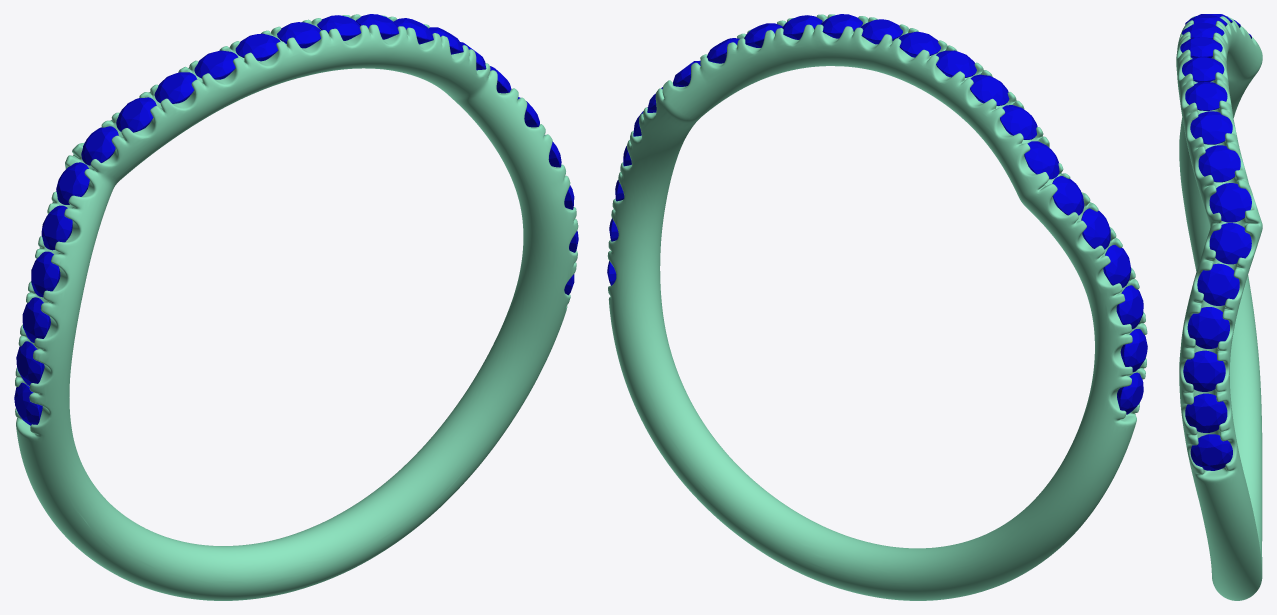
The picture shows the model from 3 angles, left to right: view 1: azimuth 30°, elevation 25°; view 2: azimuth 150°, elevation 25°; view 3: azimuth 270°, elevation 25°; orthographic projection. The views are drawn at different scales.
Parts seen in each view (by area): view 1: Metal03, Diamond_Band.016, Diamond_Band.015, Diamond_Band.017, Diamond_Band.018, Diamond_Band.014, Diamond_Band.019, Diamond_Band.013, Diamond_Band.020, Diamond_Band.012, Diamond_Band.021, Diamond_Band.011 (+1 smaller); view 2: Metal03, Diamond_Band.017, Diamond_Band.015, Diamond_Band.016, Diamond_Band.018, Diamond_Band.014, Diamond_Band.019, Diamond_Band.013, Diamond_Band.020, Diamond_Band.021, Diamond_Band.012, Diamond_Band.022 (+1 smaller); view 3: Metal03, Diamond_Band.003, Diamond_Band.004, Diamond_Band.002, Diamond_Band.005, Diamond_Band.001, Diamond_Band.006, Diamond_Band, Diamond_Band.007, Diamond_Band.008, Diamond_Band.009, Diamond_Band.010 (+3 smaller).
Boxes of the visible parts, x1,y1,x2,y2 form: Metal03: (15,14,578,600); Diamond_Band.016: (81,126,118,165); Diamond_Band.015: (116,97,156,132); Diamond_Band.017: (56,162,89,204); Diamond_Band.018: (41,205,72,250); Diamond_Band.014: (154,72,197,103); Diamond_Band.019: (31,251,60,297); Diamond_Band.013: (194,50,237,79); Diamond_Band.020: (22,297,50,342); Diamond_Band.012: (235,33,280,61); Diamond_Band.021: (16,341,44,385); Diamond_Band.011: (277,22,320,48); Metal03: (607,14,1147,600); Diamond_Band.017: (1052,176,1084,215); Diamond_Band.015: (1000,105,1037,139); Diamond_Band.016: (1024,141,1059,179); Diamond_Band.018: (1081,208,1110,249); Diamond_Band.014: (970,74,1009,105); Diamond_Band.019: (1103,245,1131,287); Diamond_Band.013: (936,50,976,77); Diamond_Band.020: (1116,285,1143,329); Diamond_Band.021: (1120,329,1147,372); Diamond_Band.012: (898,31,940,57); Diamond_Band.022: (1117,372,1143,414); Metal03: (1176,16,1262,600); Diamond_Band.003: (1187,307,1229,348); Diamond_Band.004: (1197,263,1239,305); Diamond_Band.002: (1183,350,1225,391); Diamond_Band.005: (1209,223,1251,264); Diamond_Band.001: (1185,393,1227,432); Diamond_Band.006: (1209,183,1251,222); Diamond_Band: (1190,434,1232,470); Diamond_Band.007: (1198,145,1240,182); Diamond_Band.008: (1190,111,1232,144); Diamond_Band.009: (1185,81,1227,110); Diamond_Band.010: (1182,56,1224,82).
Bounding box in the file's own units: 20.73 × 20.8 × 3.07.
